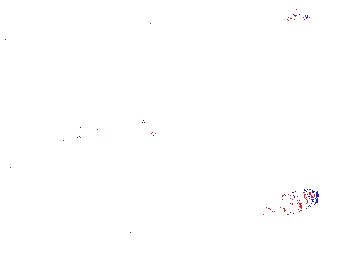X-ray fish: (265, 187, 321, 214), (277, 63, 328, 90)
red belly glassfish: (278, 7, 309, 23)
redtail glassfish: (90, 114, 151, 136)
